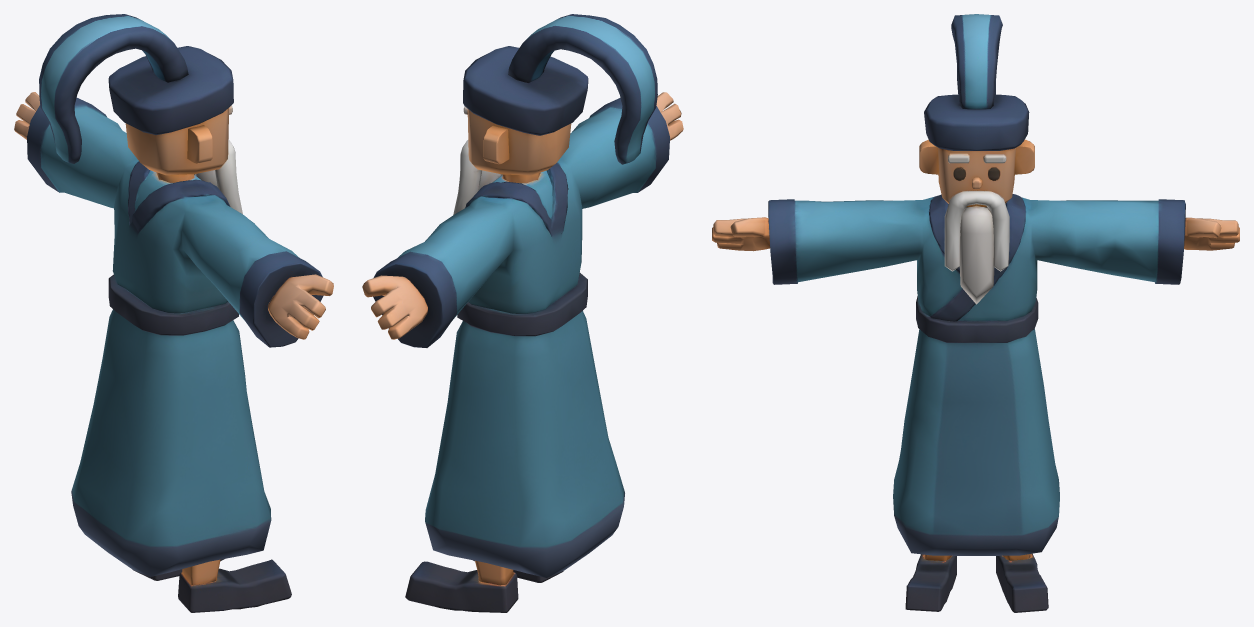
File: char_follower.glb
3 renders of one model, left to right at view 1: azimuth 30°, elevation 25°; view 2: azimuth 150°, elevation 25°; view 3: azimuth 270°, elevation 25°, orthographic. The views are drawn at different scales.
Parts seen in each view (by area): view 1: tripo_node_e529556e-7df8-4df7-b792-3a15d05a2491; view 2: tripo_node_e529556e-7df8-4df7-b792-3a15d05a2491; view 3: tripo_node_e529556e-7df8-4df7-b792-3a15d05a2491.
Boxes of the visible parts, <box> form: tripo_node_e529556e-7df8-4df7-b792-3a15d05a2491: <box>14,14,333,612</box>; tripo_node_e529556e-7df8-4df7-b792-3a15d05a2491: <box>362,14,683,612</box>; tripo_node_e529556e-7df8-4df7-b792-3a15d05a2491: <box>712,14,1239,612</box>.
Size of the model in its own units: 0.377 by 0.998 by 0.9004.
Materials: 1 (1 with a texture image).
